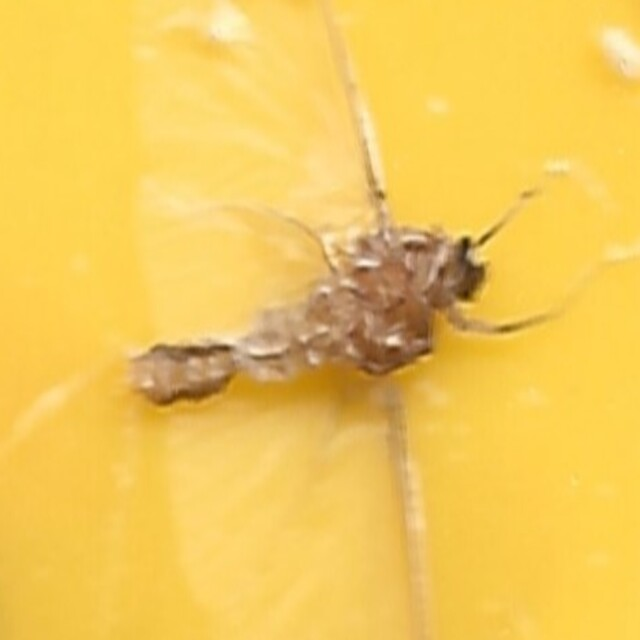Ephemeroptera: (136, 219, 504, 421)
